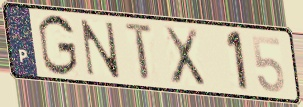1: (224, 30, 251, 95)
5: (249, 34, 287, 95)
G: (36, 12, 80, 78)
N: (79, 17, 122, 80)
T: (124, 20, 155, 84)
X: (162, 24, 208, 89)
